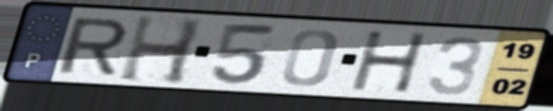0: (278, 27, 342, 88)
3: (427, 35, 485, 97)
5: (207, 22, 280, 87)
H: (115, 12, 208, 87), (348, 30, 431, 95)
R: (54, 17, 131, 76)
